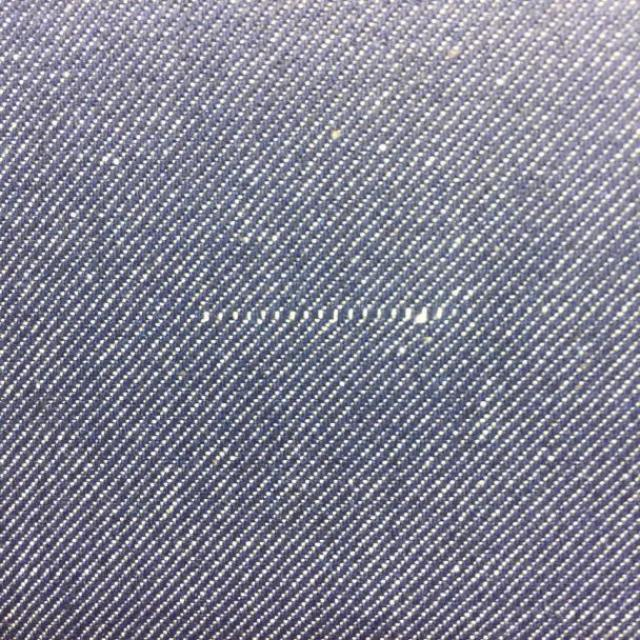Knot: (200, 308, 447, 325)
